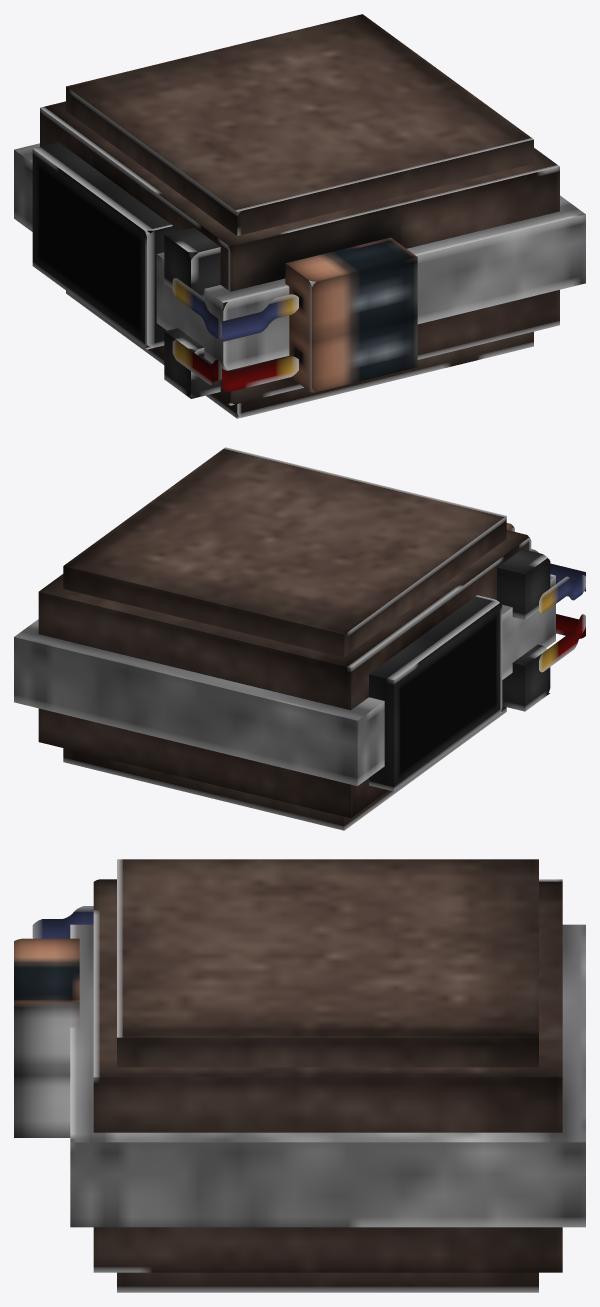
Rendered from wristtimer.obj.
The picture shows the model from 3 angles, top to bottom: view 1: azimuth 30°, elevation 25°; view 2: azimuth 150°, elevation 25°; view 3: azimuth 270°, elevation 25°; orthographic projection. The views are drawn at different scales.
Parts seen in each view (by area): view 1: leftArmModel0, leftArmModel1, leftArmModel2, leftArmModel3, leftArmModel4, leftArmModel5, leftArmModel7, leftArmModel6; view 2: leftArmModel0, leftArmModel1, leftArmModel2, leftArmModel3, leftArmModel7, leftArmModel5, leftArmModel6; view 3: leftArmModel0, leftArmModel1, leftArmModel2, leftArmModel4, leftArmModel5.
Boxes of the visible parts, x1,y1,x2,y2 form: leftArmModel0: (66,14,533,418); leftArmModel1: (40,101,559,405); leftArmModel2: (14,143,585,370); leftArmModel3: (32,142,173,349); leftArmModel4: (285,237,417,392); leftArmModel5: (172,278,298,391); leftArmModel7: (164,227,220,299); leftArmModel6: (164,328,220,398); leftArmModel0: (63,447,506,830); leftArmModel1: (38,530,531,818); leftArmModel2: (14,574,555,785); leftArmModel3: (369,595,502,791); leftArmModel7: (497,549,550,619); leftArmModel5: (531,549,585,672); leftArmModel6: (502,644,550,711); leftArmModel0: (117,859,538,1292); leftArmModel1: (93,879,562,1272); leftArmModel2: (70,924,585,1227); leftArmModel4: (14,938,79,1137); leftArmModel5: (32,906,93,938).
Size of the model in its own units: 5.75 by 3 by 6.1.
